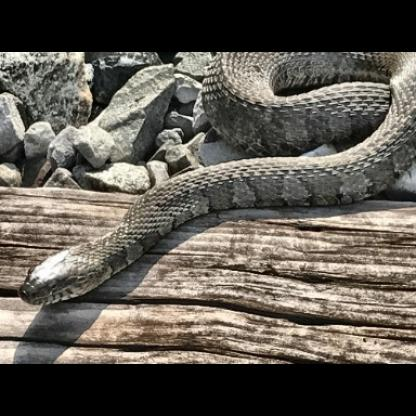Snake: (3, 54, 416, 307)
